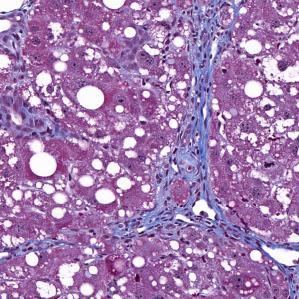fibrosis: (148, 150, 236, 235), (176, 0, 228, 124)
